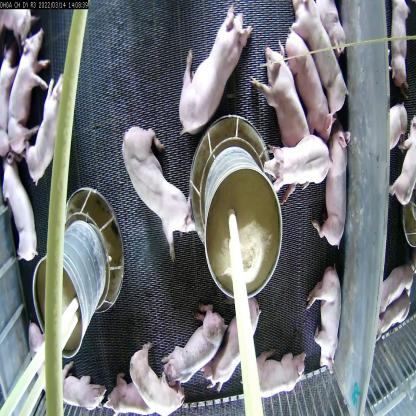Pig: (120, 109, 198, 261), (172, 2, 252, 136), (245, 33, 310, 195), (283, 0, 351, 114), (283, 23, 336, 149), (158, 300, 224, 390), (8, 30, 50, 154), (209, 296, 262, 392), (303, 254, 344, 375), (28, 68, 68, 188), (128, 340, 188, 416), (316, 119, 350, 251), (264, 131, 334, 195), (0, 154, 39, 267), (240, 343, 306, 401), (50, 362, 108, 415), (0, 38, 25, 156), (27, 327, 67, 398), (388, 110, 416, 210), (102, 378, 166, 415), (386, 0, 415, 81), (372, 258, 414, 310), (312, 1, 349, 59)
